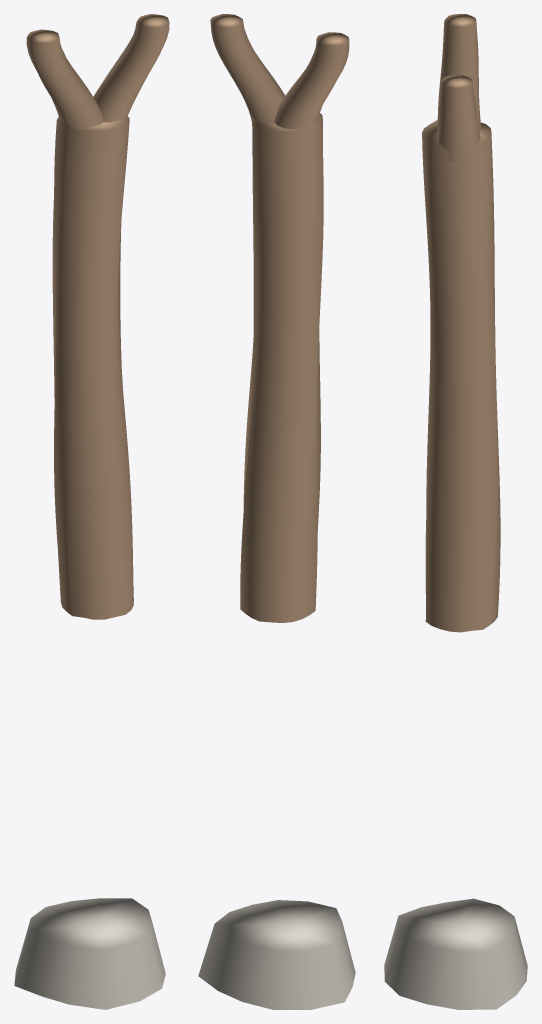
The model's file is bagana-f2-3x12x3-v2.glb.
3 renders of one model, left to right at view 1: azimuth 30°, elevation 25°; view 2: azimuth 150°, elevation 25°; view 3: azimuth 270°, elevation 25°, orthographic.
Parts seen in each view (by area): view 1: bagana_wood, bagana_stone; view 2: bagana_wood, bagana_stone; view 3: bagana_wood, bagana_stone.
Part boxes in pixels (x1=…): bagana_wood: x1=26, y1=14, x2=169, y2=619; bagana_stone: x1=14, y1=898, x2=165, y2=1009; bagana_wood: x1=210, y1=14, x2=349, y2=622; bagana_stone: x1=198, y1=900, x2=355, y2=1009; bagana_wood: x1=422, y1=14, x2=500, y2=632; bagana_stone: x1=384, y1=898, x2=527, y2=1009.
Bounding box in the file's own units: 0.7085 × 4.5 × 0.6269.
